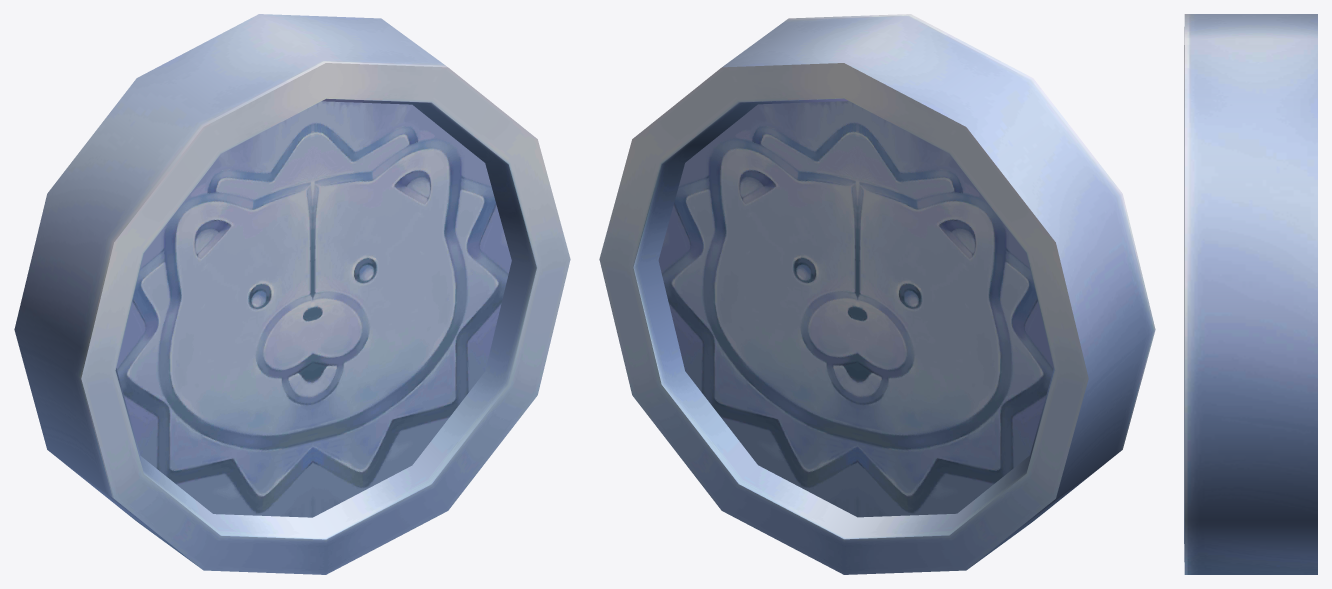
File: ssdx_hb_001.fbx
The picture shows the model from 3 angles, left to right: view 1: azimuth 30°, elevation 25°; view 2: azimuth 150°, elevation 25°; view 3: azimuth 270°, elevation 25°; orthographic projection.
Visible parts, largest first — view 1: ssdx_hb_001; view 2: ssdx_hb_001; view 3: ssdx_hb_001.
Part boxes in pixels (x1,y1,x2,y2): ssdx_hb_001: (14, 14, 570, 574); ssdx_hb_001: (599, 14, 1155, 574); ssdx_hb_001: (1184, 14, 1317, 574).
Bounding box in the file's own units: 0.1573 × 0.1573 × 0.0374.
Materials: 1 (1 with a texture image).
